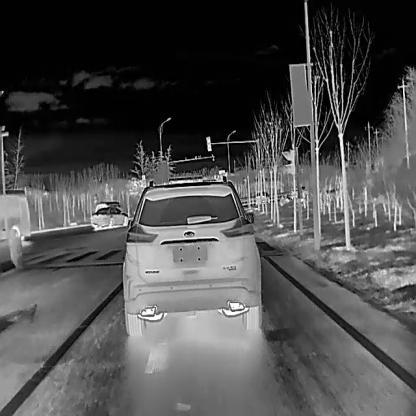car: (121, 175, 262, 337), (0, 189, 31, 244), (90, 206, 129, 229), (255, 189, 270, 204), (290, 186, 306, 199)
